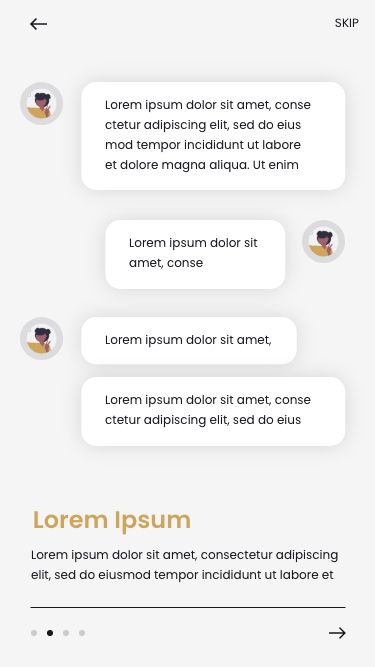Icon: (30, 18, 48, 32), (329, 626, 346, 640)
Image: (20, 82, 64, 126), (302, 220, 345, 264), (21, 317, 64, 361)
PageIndicator: (31, 628, 87, 637)
Text: (105, 100, 311, 174), (31, 549, 339, 583), (105, 395, 312, 428), (129, 238, 259, 270), (34, 510, 191, 536), (106, 334, 272, 348), (334, 18, 359, 29)
